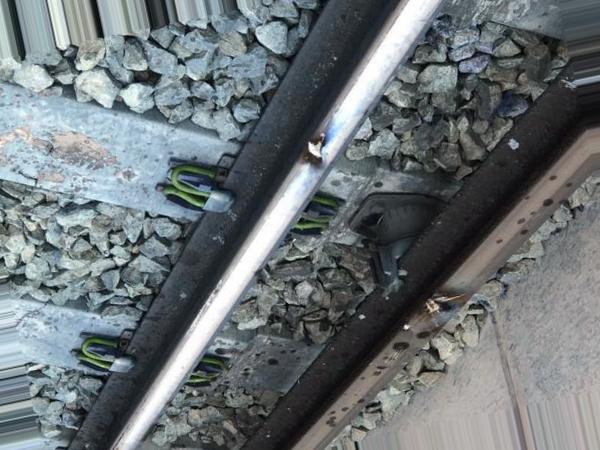tracks_fault: (409, 244, 476, 407), (297, 93, 353, 192)
